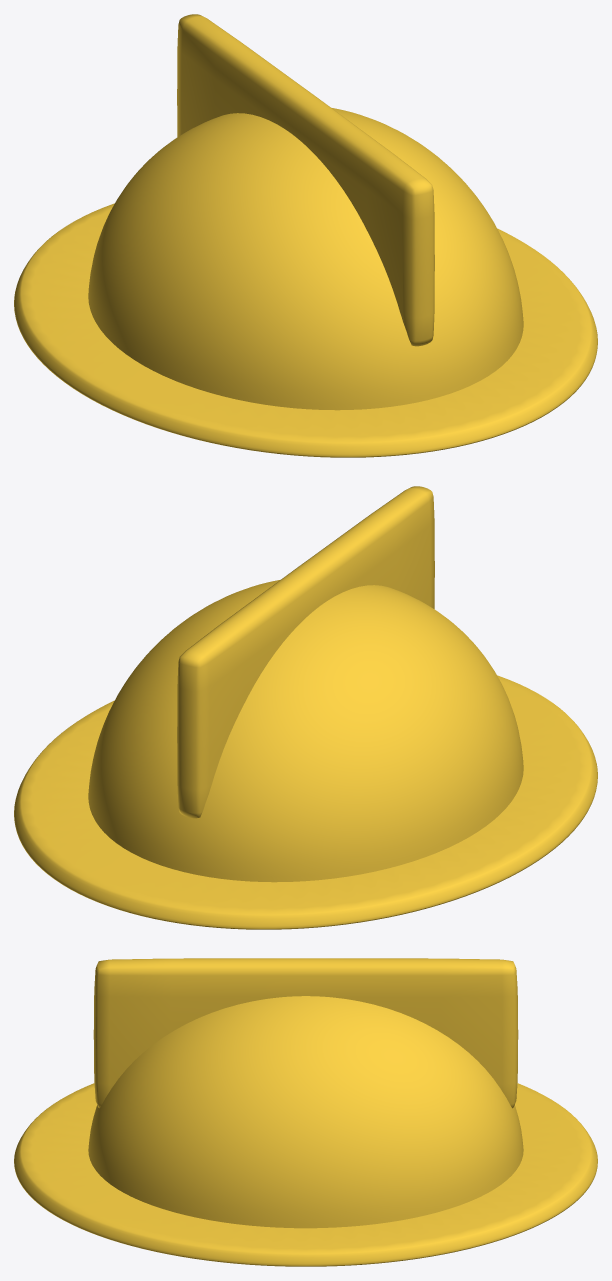
Rendered from hat_hardhat.glb.
3 views of the same model, one above another, from view 1: azimuth 30°, elevation 25°; view 2: azimuth 150°, elevation 25°; view 3: azimuth 270°, elevation 25° (orthographic). The views are drawn at different scales.
Parts seen in each view (by area): view 1: hardhat; view 2: hardhat; view 3: hardhat.
Part boxes in pixels (left/top/right/bottom): hardhat: left=14, top=14, right=597, bottom=457; hardhat: left=14, top=486, right=597, bottom=929; hardhat: left=14, top=958, right=597, bottom=1266.
Bounding box in the file's own units: 0.3307 × 0.1498 × 0.39.
